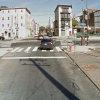Crosswalk: (10, 41, 47, 59)
